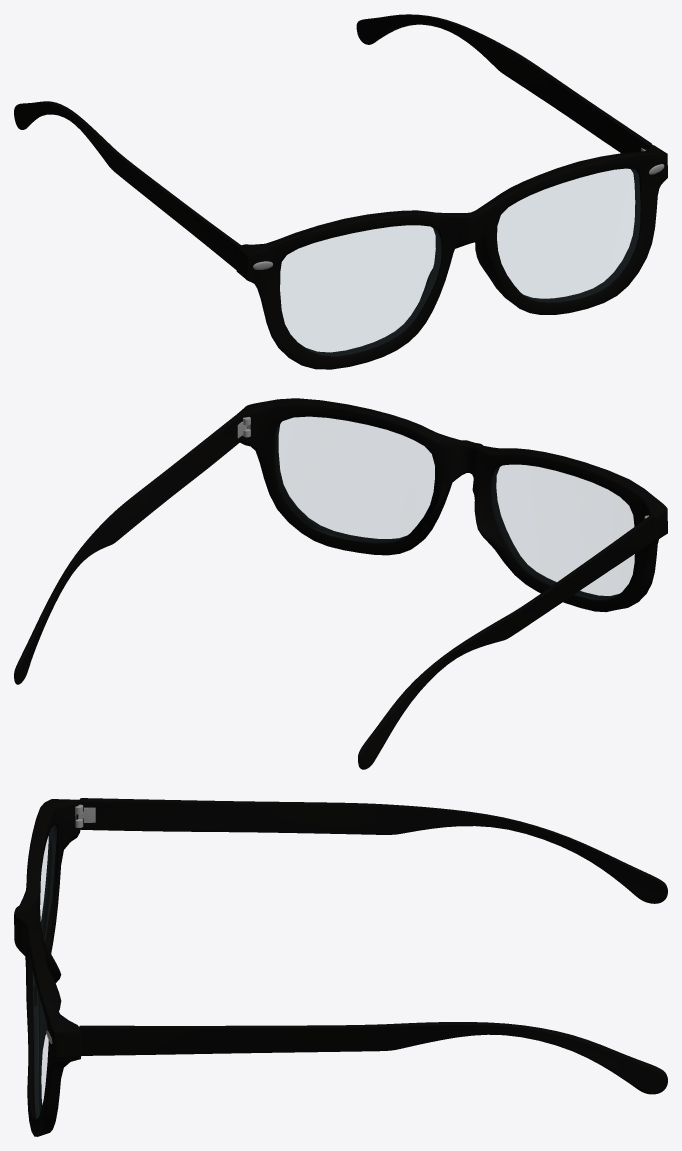
The model's file is Modelo_6.fbx.
3 views of the same model, one above another, from view 1: azimuth 30°, elevation 25°; view 2: azimuth 150°, elevation 25°; view 3: azimuth 270°, elevation 25° (orthographic). The views are drawn at different scales.
Parts seen in each view (by area): view 1: Plane006, Marco_6, Pata_izquierda_6, Pata_derecha_6; view 2: Plane006, Marco_6, Pata_derecha_6, Pata_izquierda_6; view 3: Pata_derecha_6, Pata_izquierda_6, Marco_6, Plane006.
Boxes of the visible parts, x1,y1,x2,y2 form: Plane006: (280,169,639,355); Marco_6: (236,145,667,369); Pata_izquierda_6: (356,14,652,153); Pata_derecha_6: (14,101,240,269); Plane006: (276,417,633,599); Marco_6: (237,398,667,612); Pata_derecha_6: (358,514,654,769); Pata_izquierda_6: (14,413,242,684); Pata_derecha_6: (79,798,667,903); Pata_izquierda_6: (79,1022,667,1094); Marco_6: (14,799,81,1136); Plane006: (33,826,56,1117).
Size of the model in its own units: 18.04 by 5.84 by 21.38.
